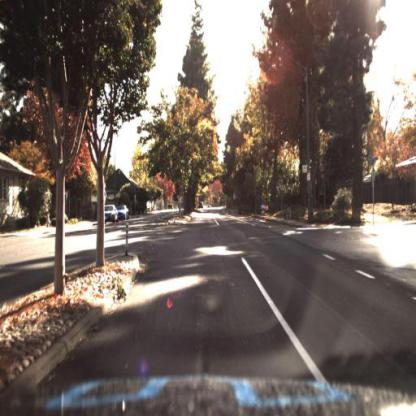car: (99, 197, 118, 228), (114, 204, 133, 227), (117, 204, 130, 221), (197, 199, 205, 216)
